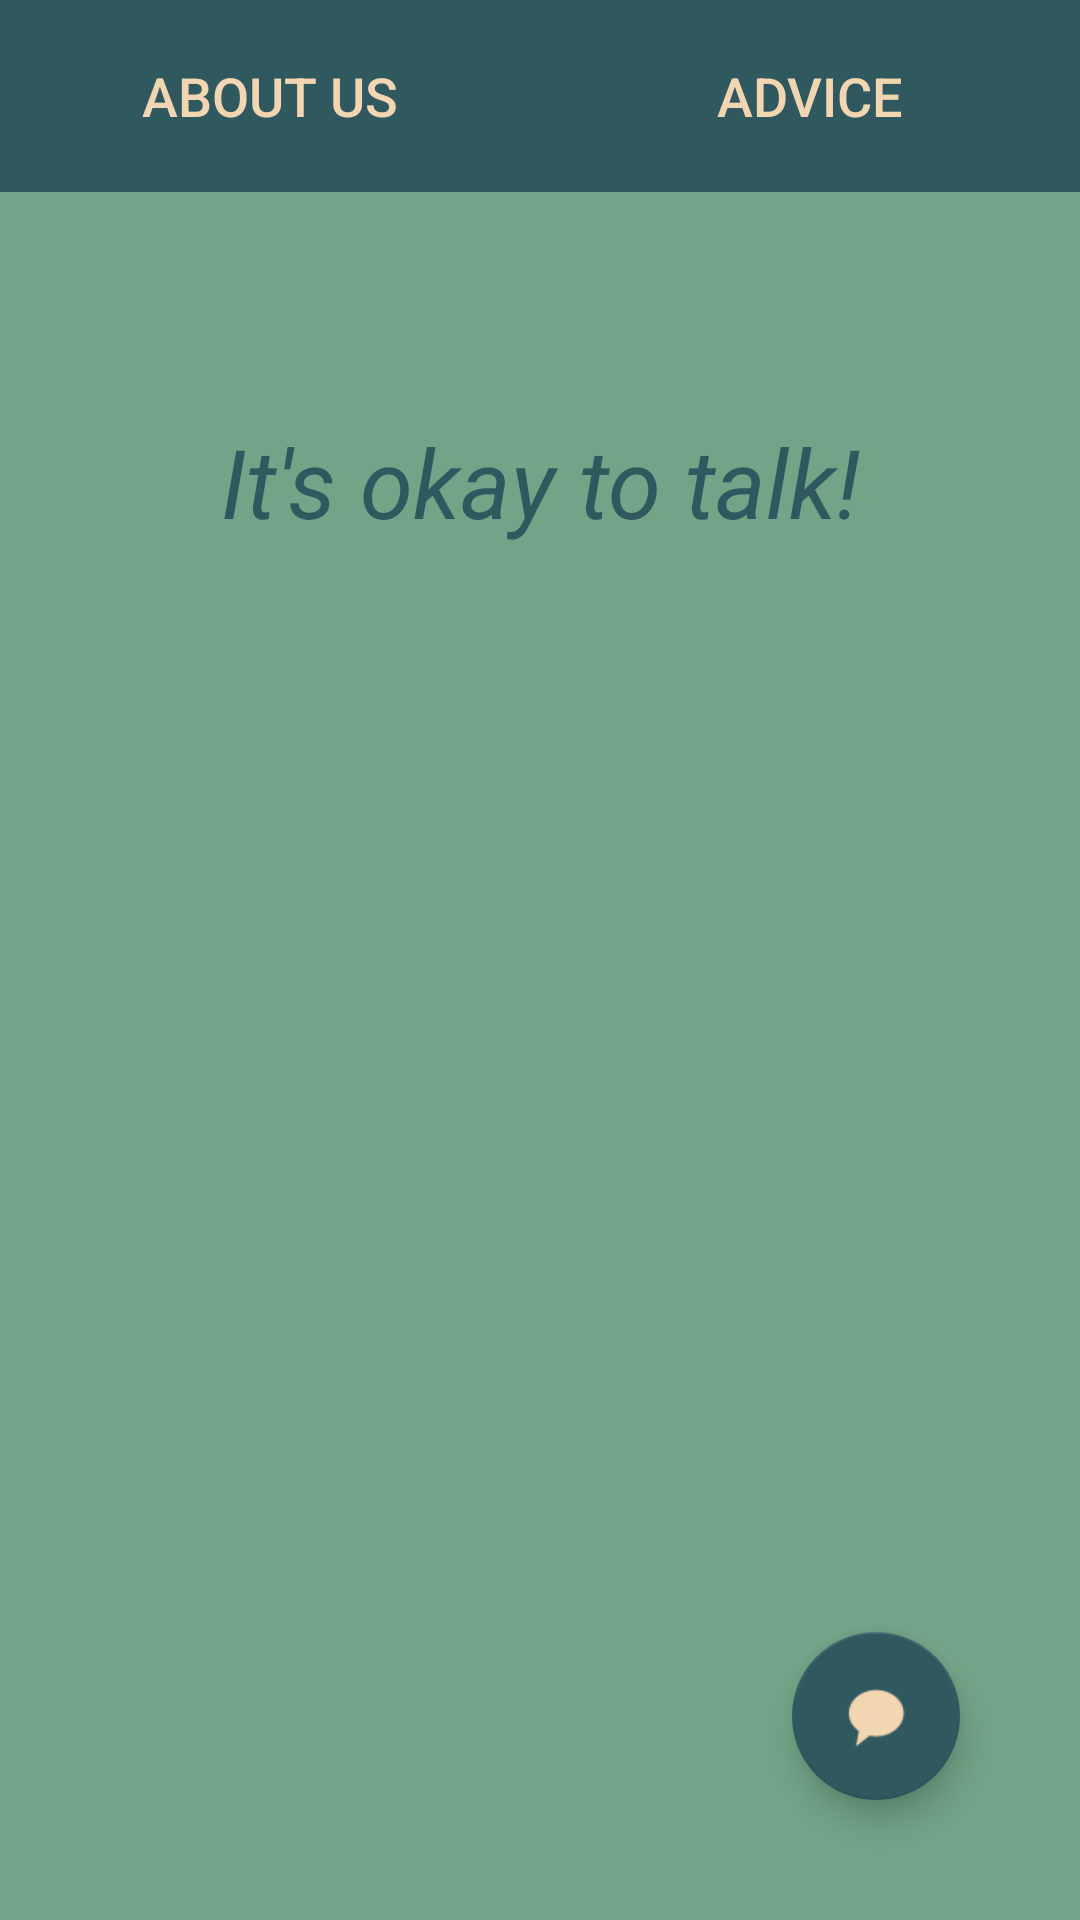

Point at icon controls on the screen. Image size 1080x1920, points as [x,y].
sym action chat: [876,1716]
